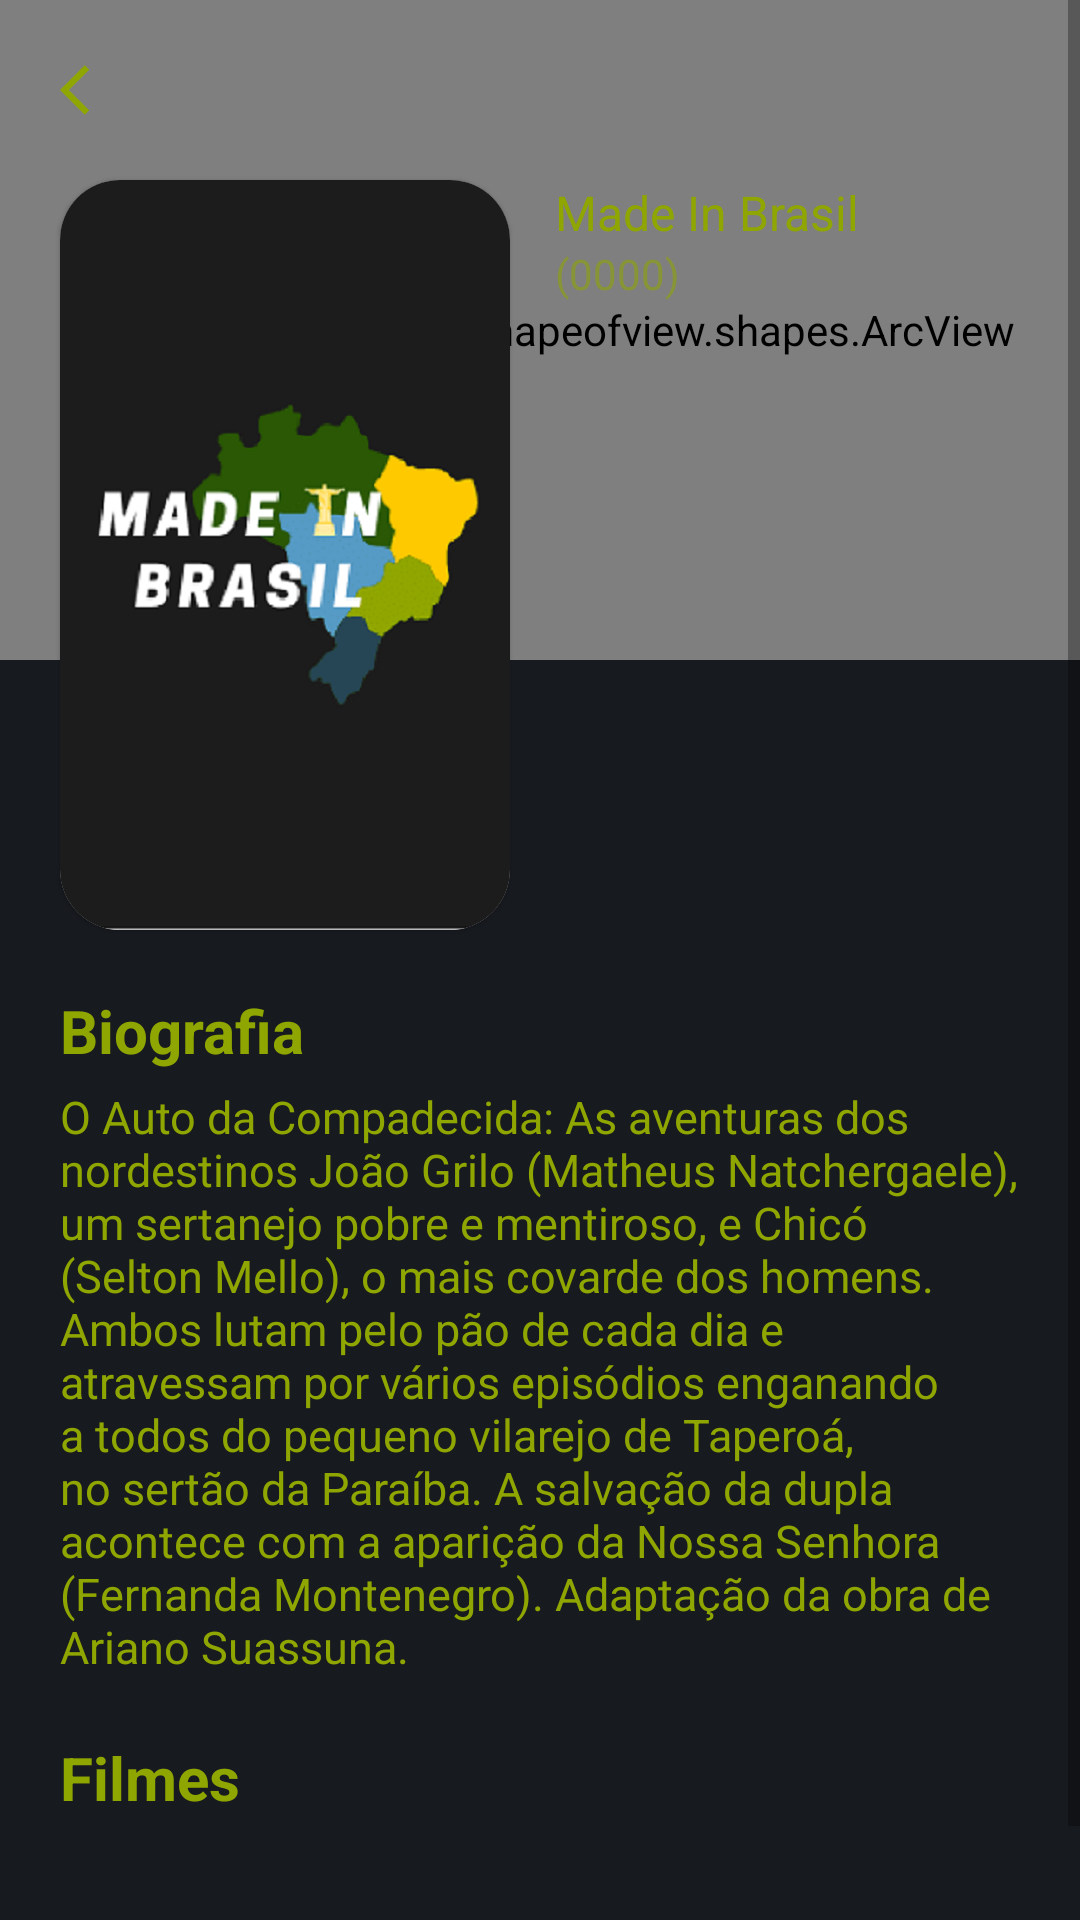

Icon click points for this 1080x1920 phone screenshot, format [x,y]:
arrow back: [74,90]
